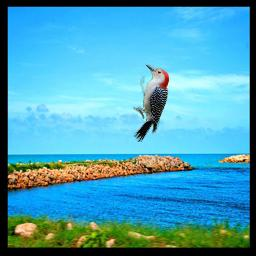Woodpecker: (133, 64, 169, 142)
